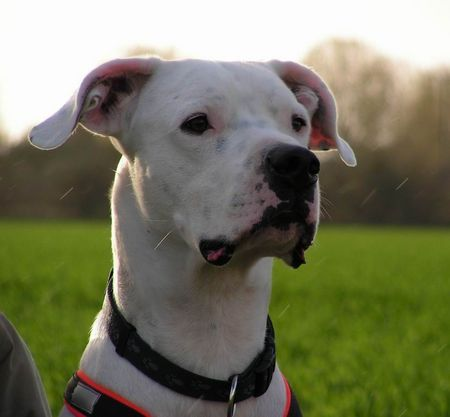dogo_argentino: (26, 55, 356, 417)
